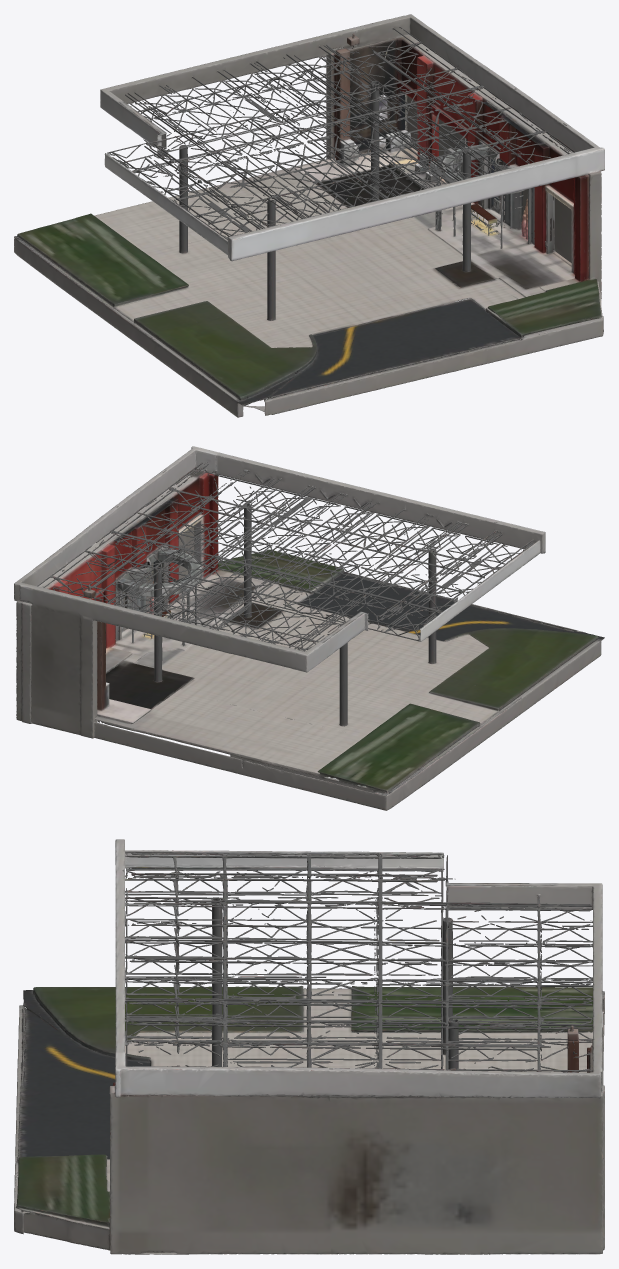
File: movenpick-airport-hotel-1.glb
3 renders of one model, top to bottom at view 1: azimuth 30°, elevation 25°; view 2: azimuth 150°, elevation 25°; view 3: azimuth 270°, elevation 25°, orthographic. The views are drawn at different scales.
Size of the model in its own units: 0.992 by 0.353 by 1.
1 material, 1 textured.
